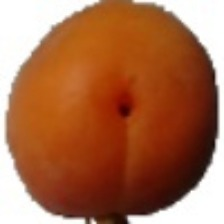apricot: (5, 20, 195, 209)
